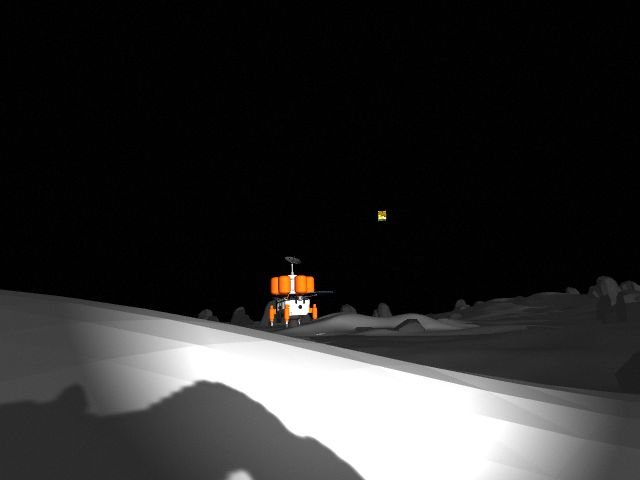homebase: (255, 254, 334, 332)
